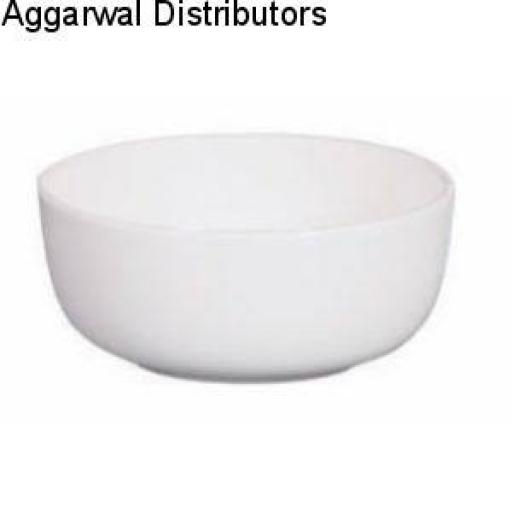Bowl: (38, 133, 454, 382)
